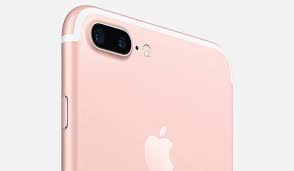iphone: (55, 9, 237, 171)
